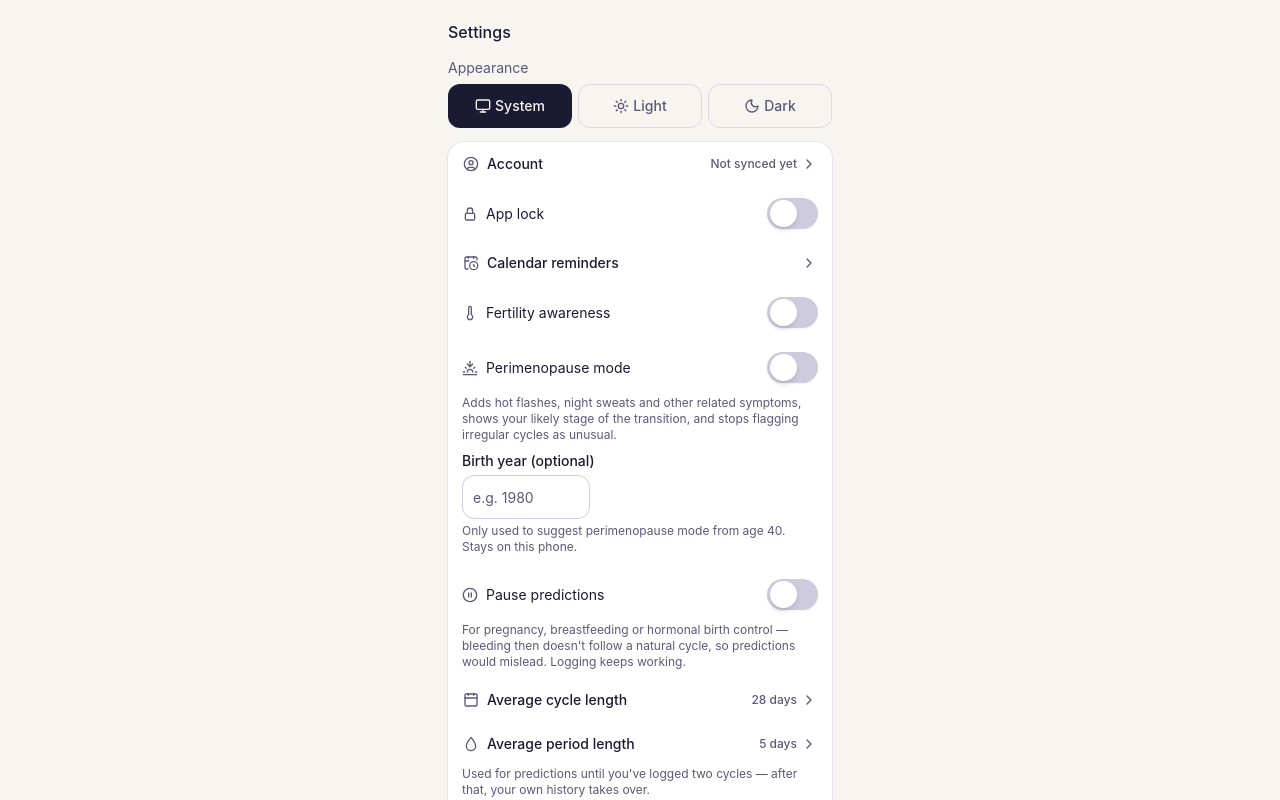
Test case: Calendar reminders → Notifications (T103) › has no accessibility violations
Click the button "Calendar reminders": [553, 262] box x1=448 y1=241 x2=832 y2=285
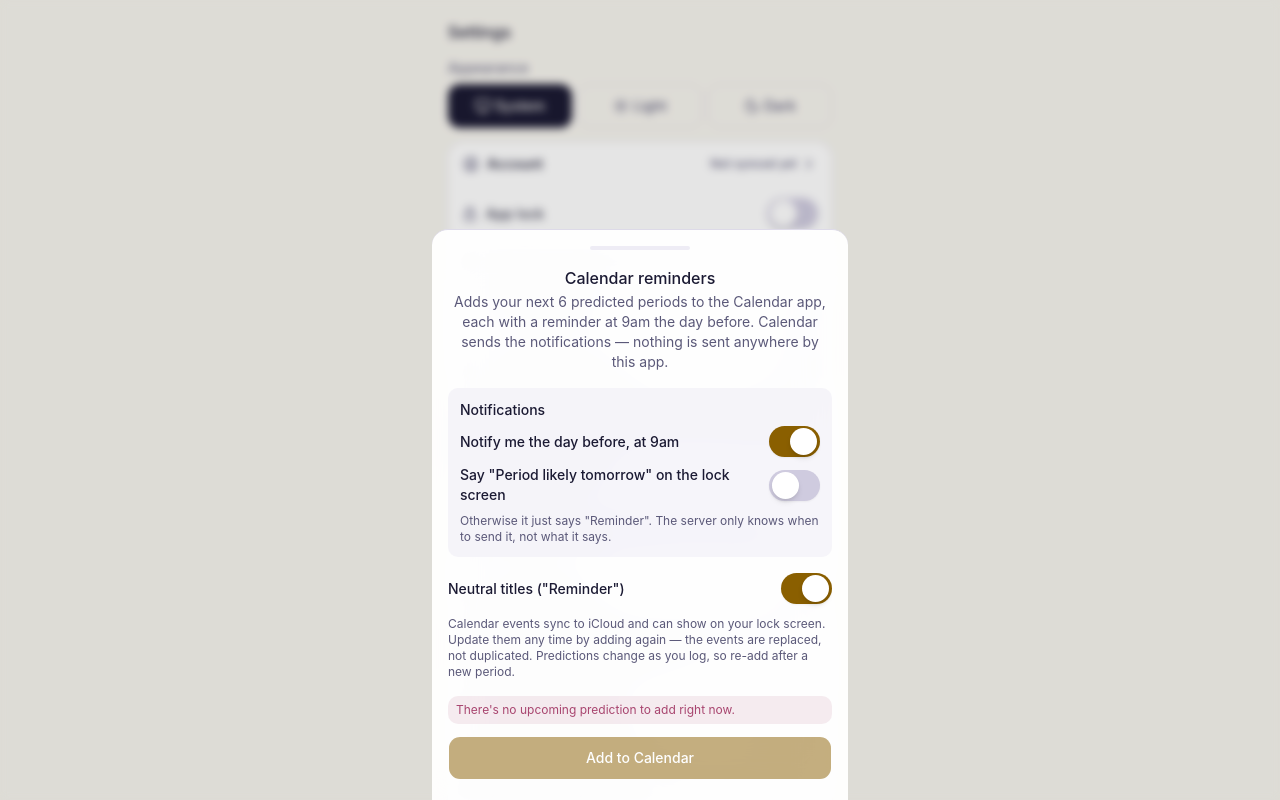
Expected: the text "Notifications" is shown, x1=460 y1=401 x2=545 y2=418
